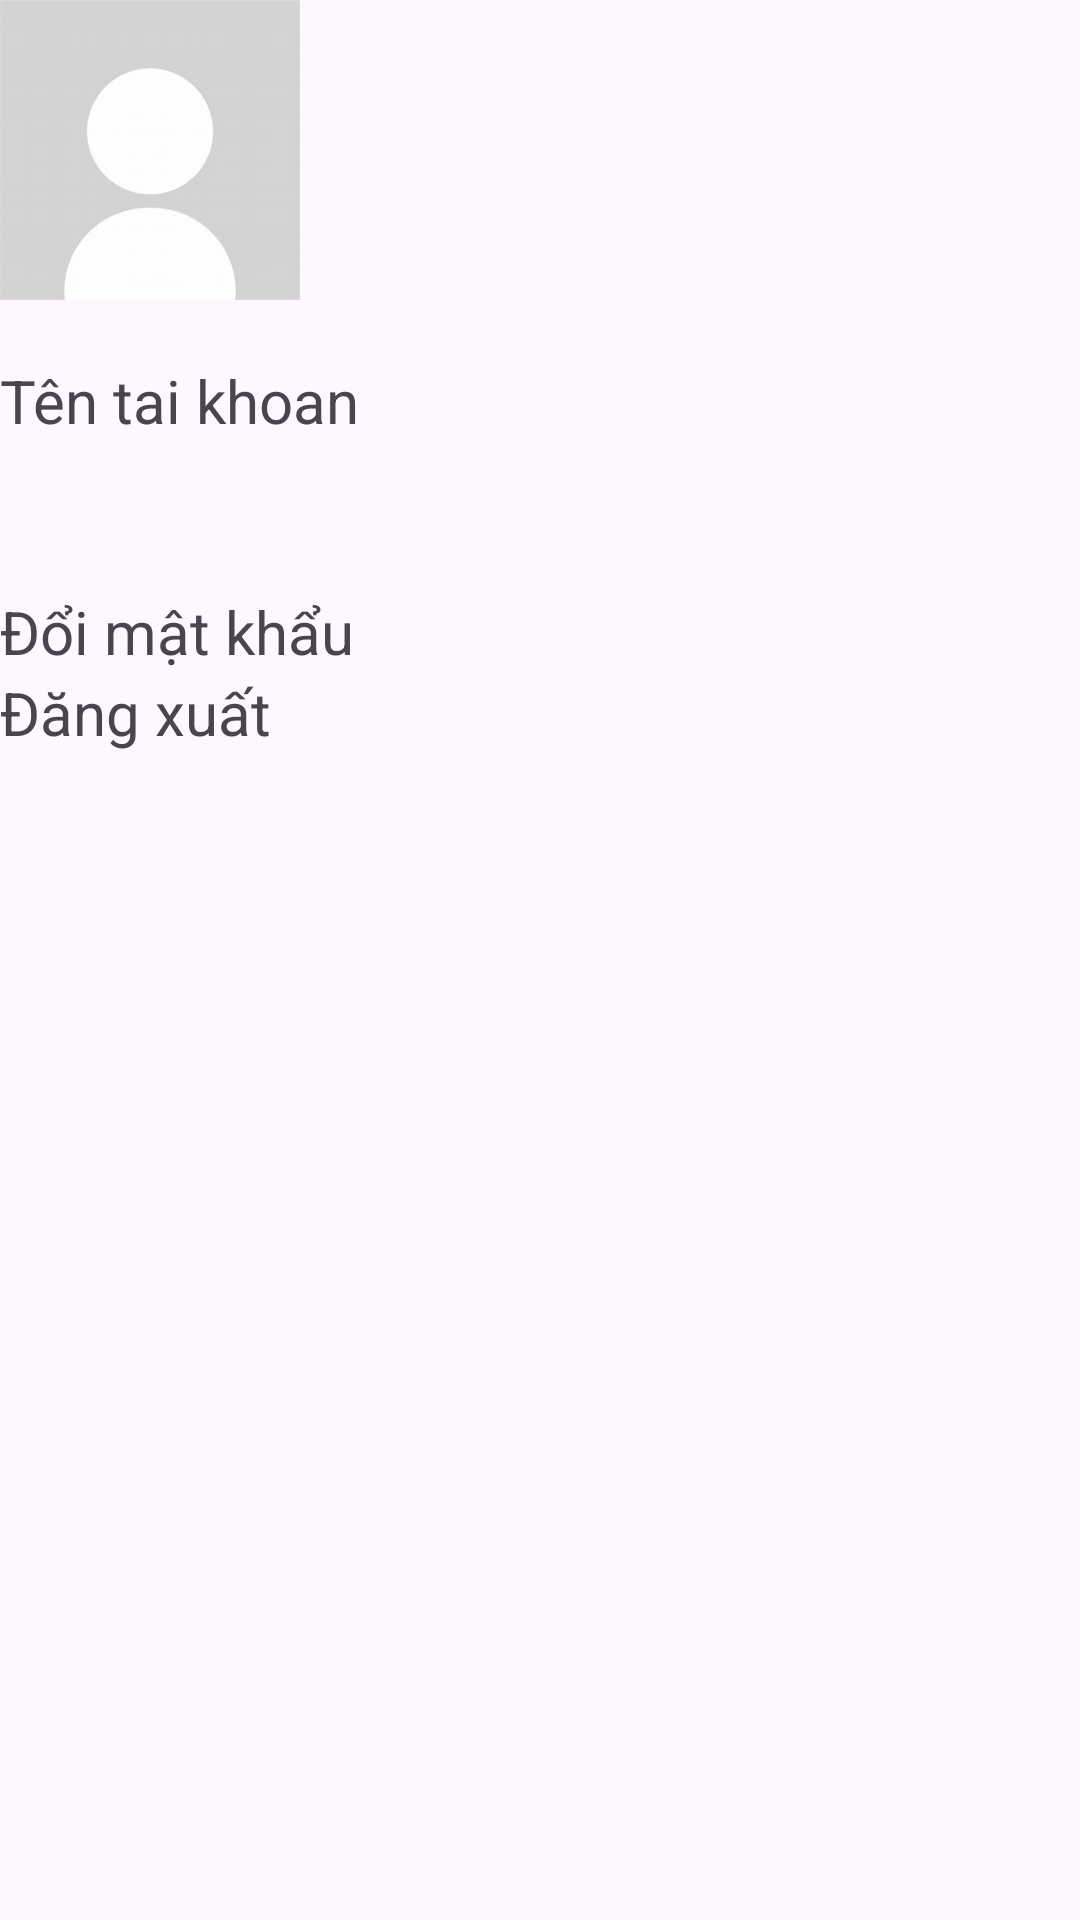

Locate icon controls on the screen. Image size 1080px×1920px, boxes as box=[x1, y1, x2, y2].
anh: box=[0, 0, 300, 300]
